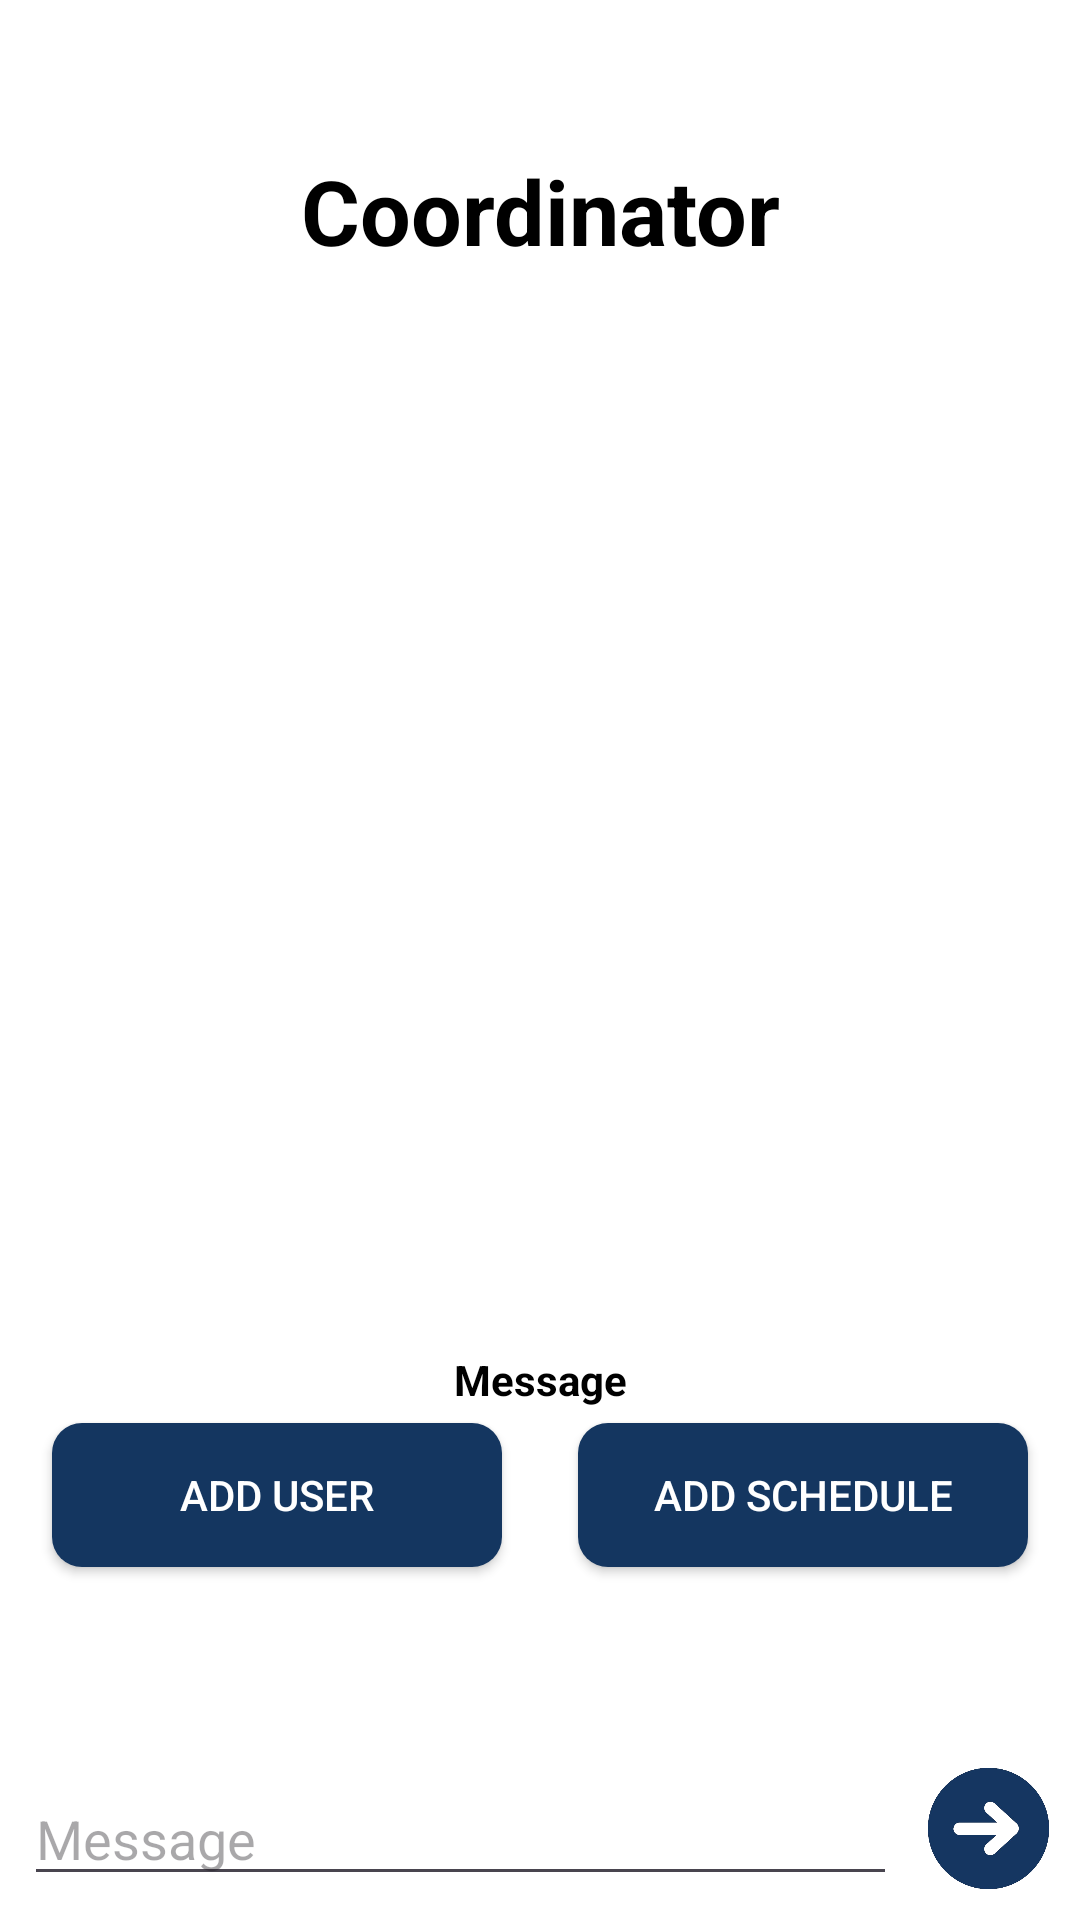

Screen size 1080px x 1920px. Icon name, then its box in pixels as (x1, y1, x2, y2):
bluebutton: (928, 1768, 1049, 1889)
